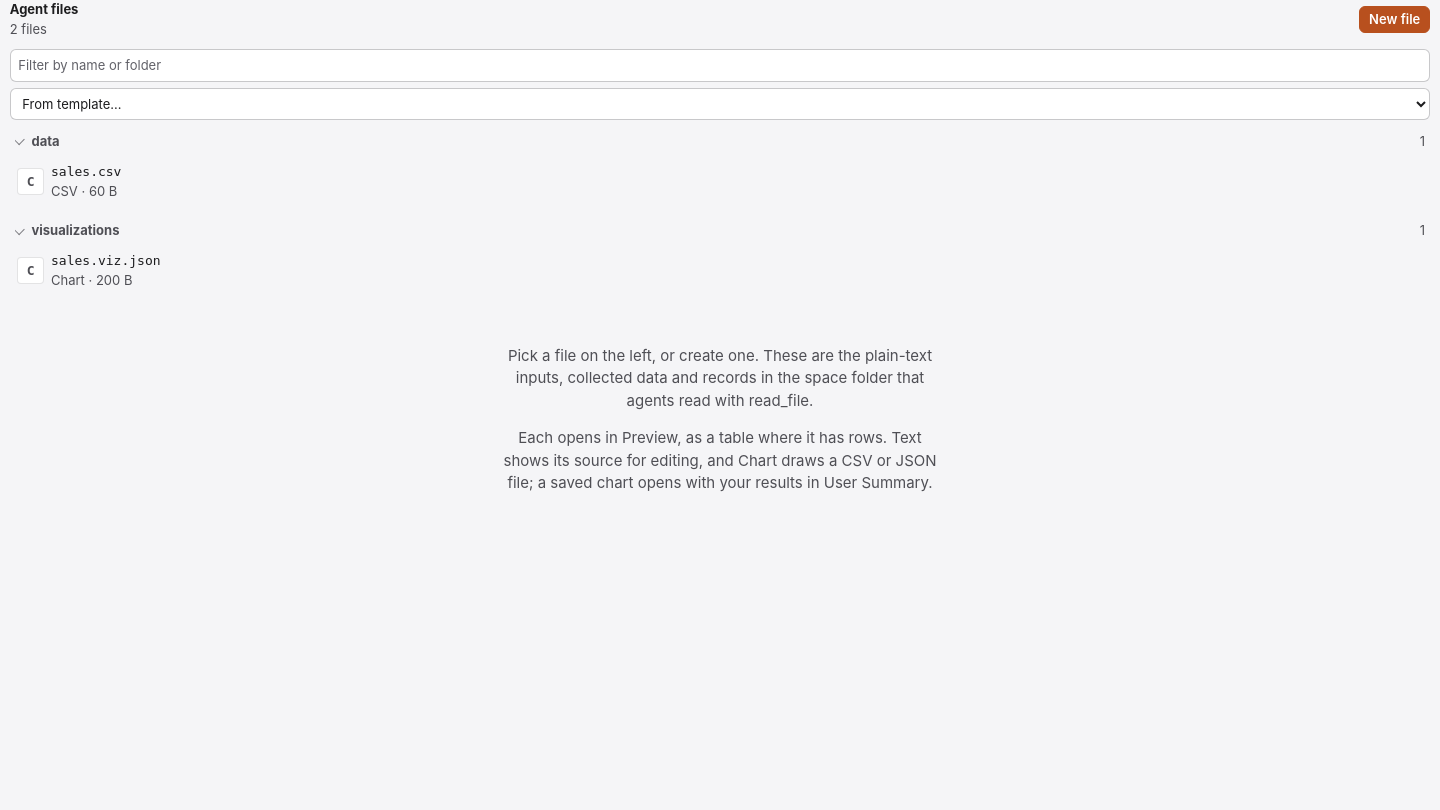
Scenario: charts, dashboards and diagrams › starts a chart from the template list, drawn once its data file is chosen
The width and height of the screenshot is (1440, 810).
Select "Chart" in the dropdown named "Create from template" at (720, 104), box [10,88,1430,120]
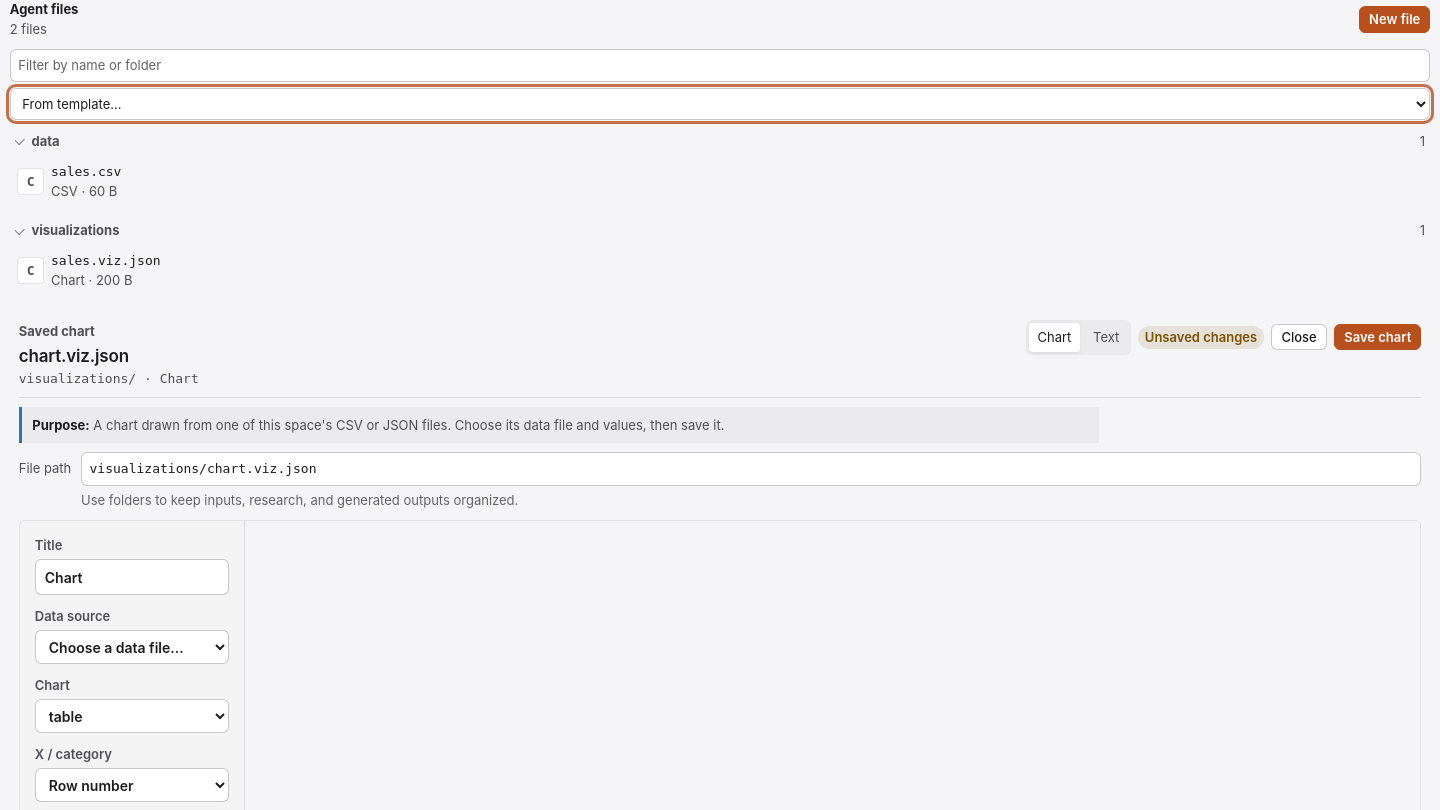
Select "data/sales.csv" in the dropdown labelled "Data source" at (132, 647), box [35,630,229,664]
(page scrolled)
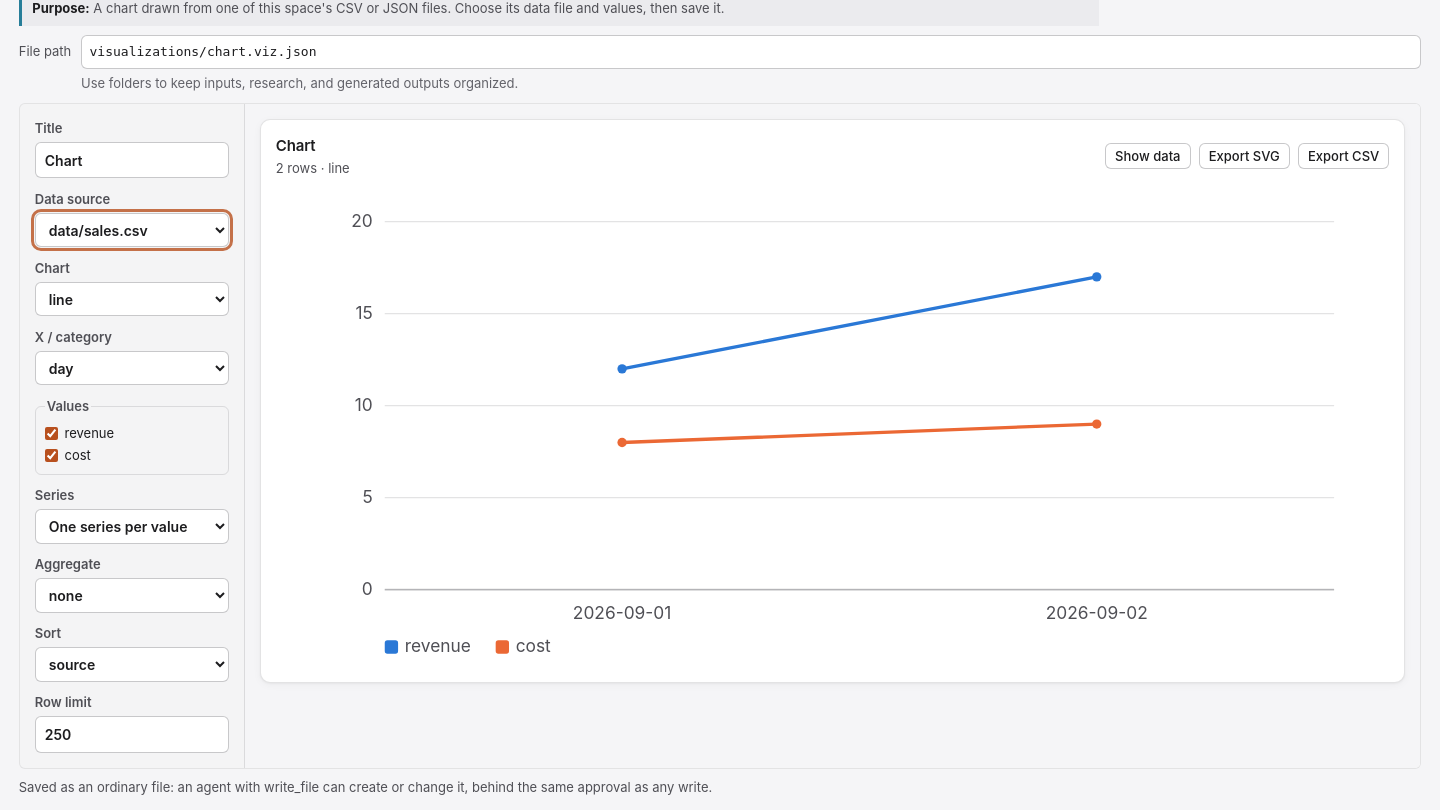
Result: the picture named "line chart: Chart" is shown at [276,187,1389,667]
